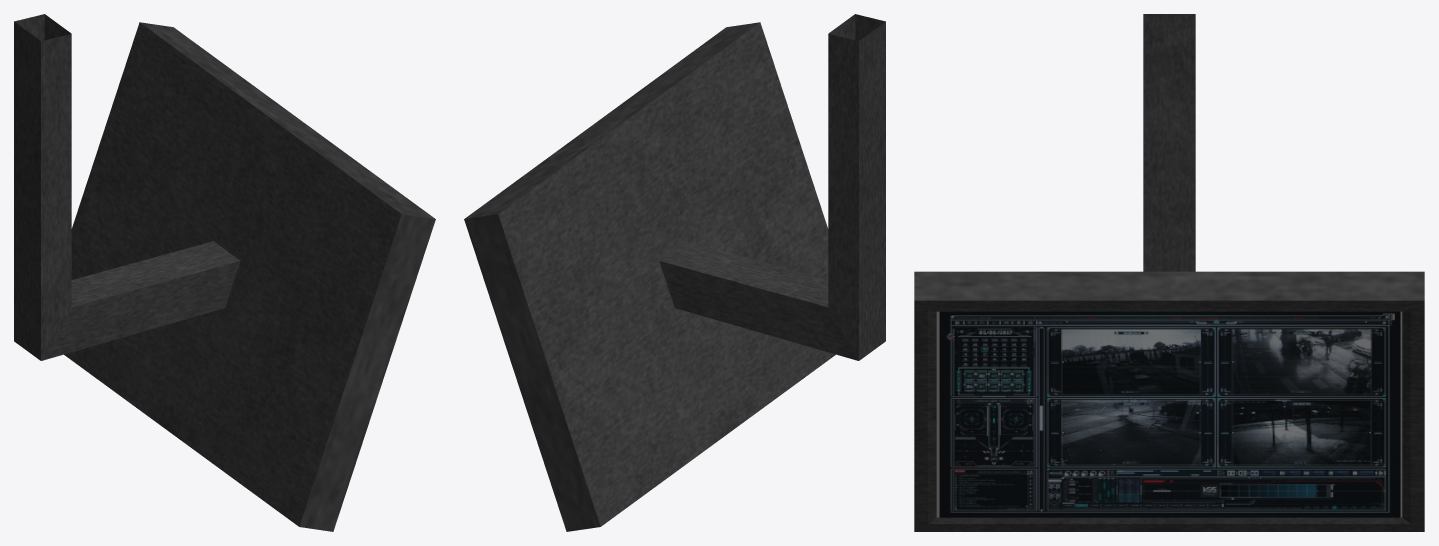
Rendered from hanging_tv.fbx.
The picture shows the model from 3 angles, left to right: view 1: azimuth 30°, elevation 25°; view 2: azimuth 150°, elevation 25°; view 3: azimuth 270°, elevation 25°; orthographic projection. The views are drawn at different scales.
Visible parts, largest first — view 1: hanging_tv; view 2: hanging_tv; view 3: hanging_tv.
Boxes of the visible parts, bbox=[...] form: hanging_tv: bbox=[14, 14, 435, 531]; hanging_tv: bbox=[464, 14, 885, 531]; hanging_tv: bbox=[914, 14, 1424, 531].
Bounding box in the file's own units: 122 × 188 × 200.
1 material, 1 textured.
